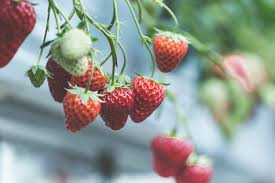ripe: (2, 2, 37, 66), (124, 75, 166, 124), (96, 82, 135, 132), (60, 90, 102, 133), (150, 132, 189, 178), (44, 59, 76, 104), (72, 59, 110, 96), (174, 158, 214, 181)
unripe: (48, 38, 93, 76), (152, 30, 190, 74), (59, 24, 93, 63), (26, 63, 45, 87)
